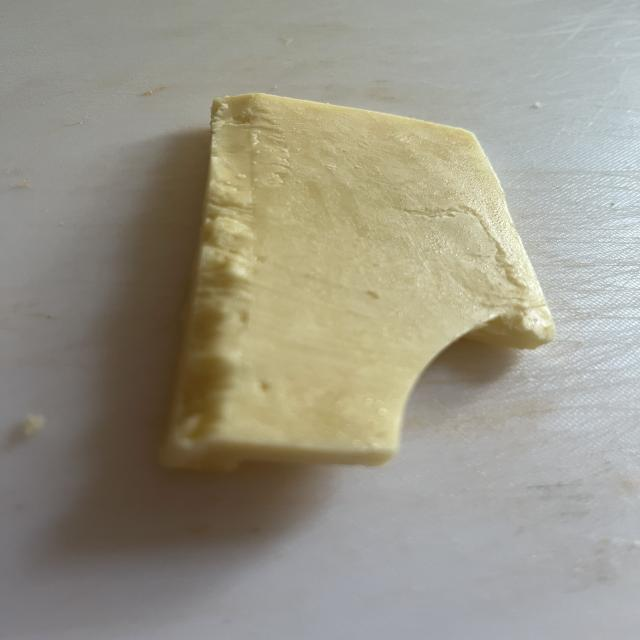cheese: (163, 94, 554, 470)
